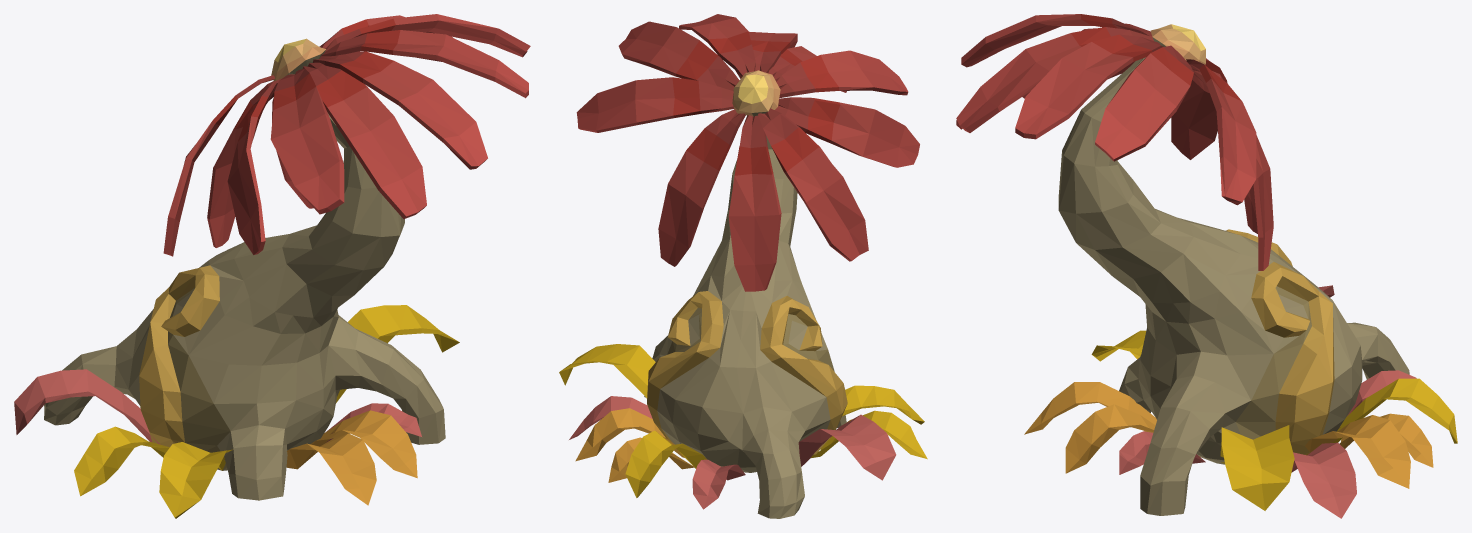
The model's file is anima.gltf.
3 renders of one model, left to right at view 1: azimuth 30°, elevation 25°; view 2: azimuth 150°, elevation 25°; view 3: azimuth 270°, elevation 25°, orthographic. The views are drawn at different scales.
Size of the model in its own units: 281 by 283 by 289.
1 material, 1 textured.
